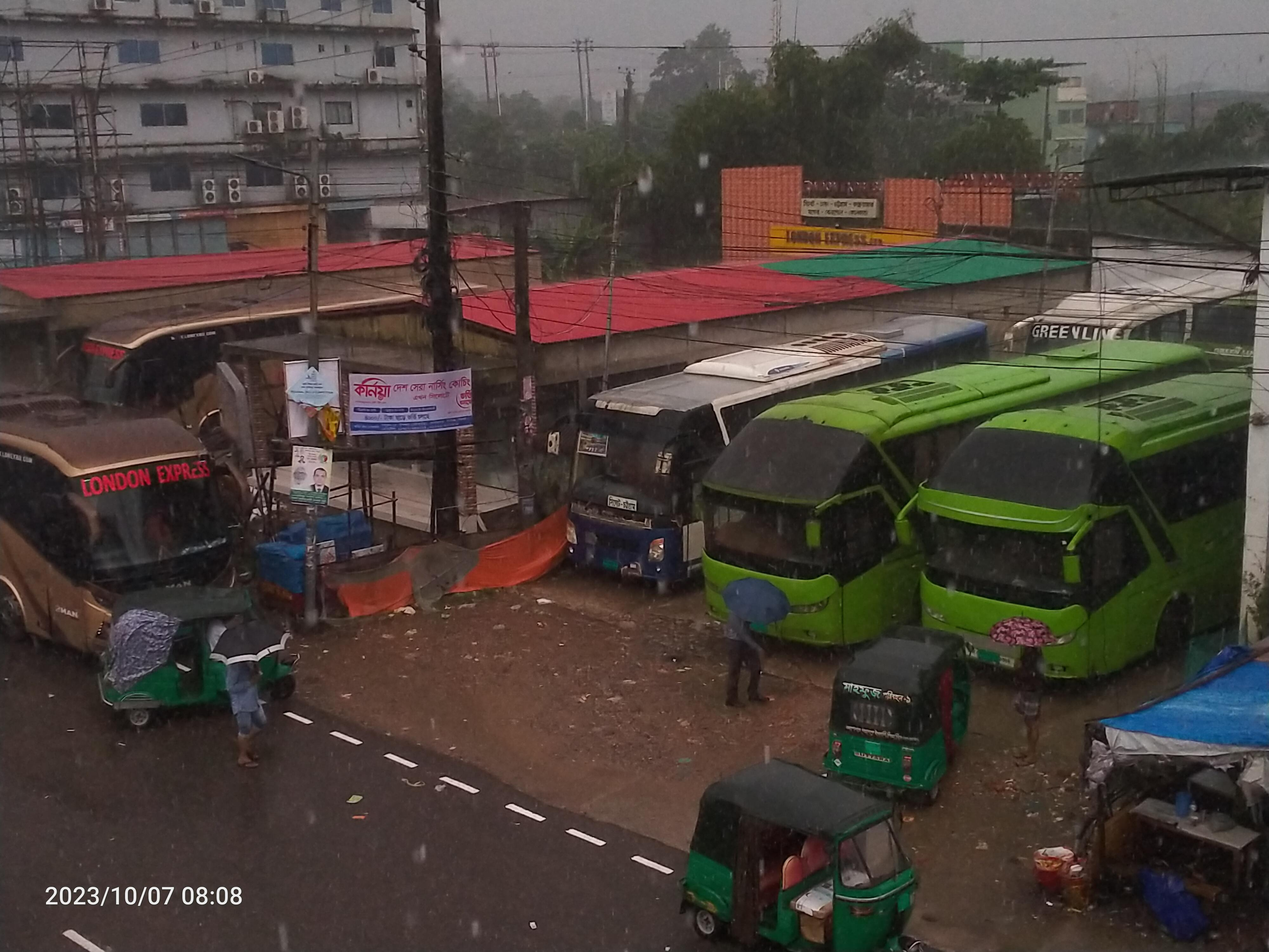Bus: (898, 353, 1269, 686), (681, 327, 958, 680), (0, 359, 292, 638), (59, 276, 518, 402), (517, 353, 725, 619), (1002, 252, 1269, 347)
